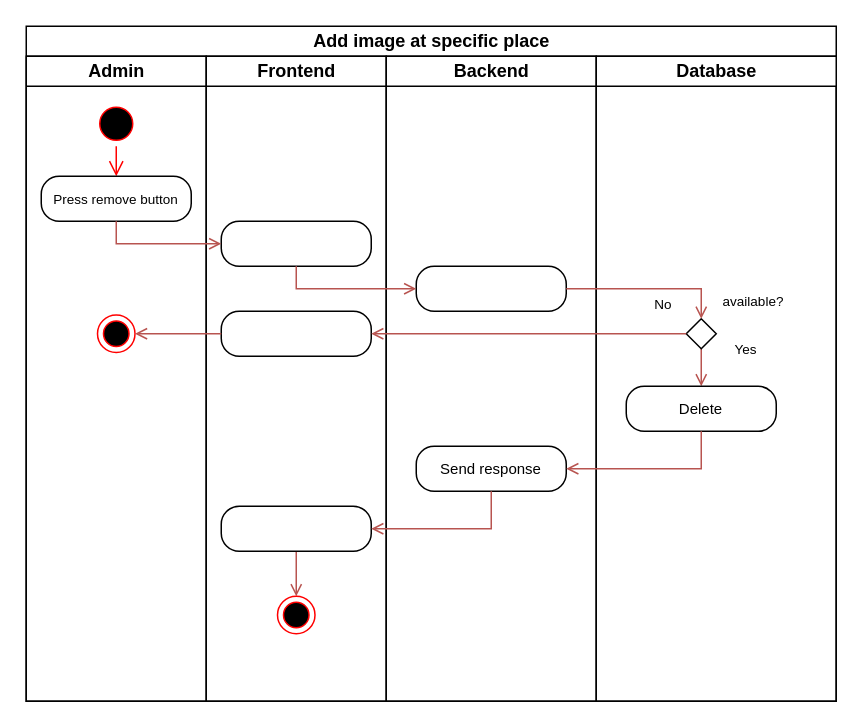
Image size: 863x728. Some labels were removed from this diagram. Here are the shapes that lost their labels. From the top down, the centre of each, then its label:
At point (295, 243): "Send delete request".
At point (490, 288): "Fetch".
At point (295, 333): "Display error message".
At point (295, 528): "Render deletion".
